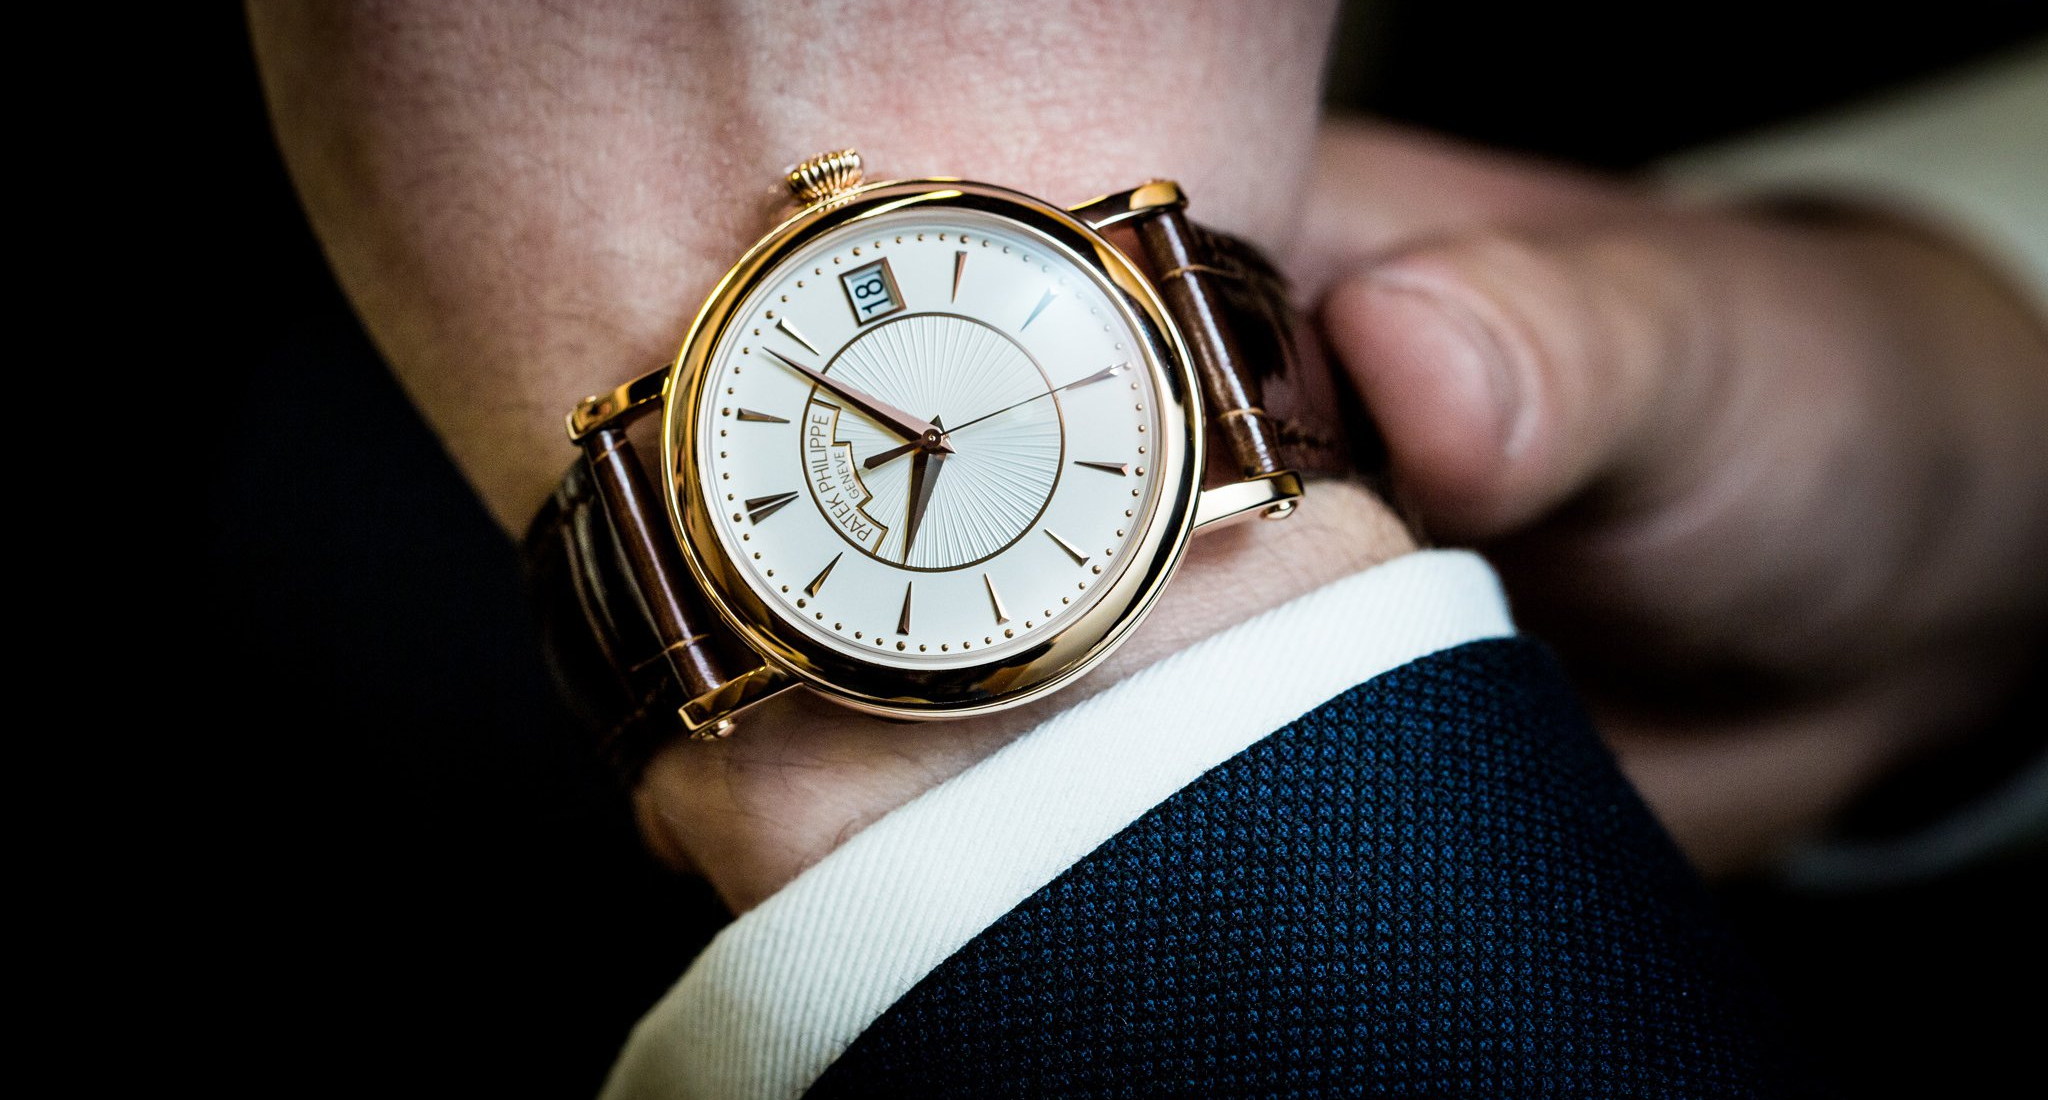clock: (698, 205, 1164, 676)
